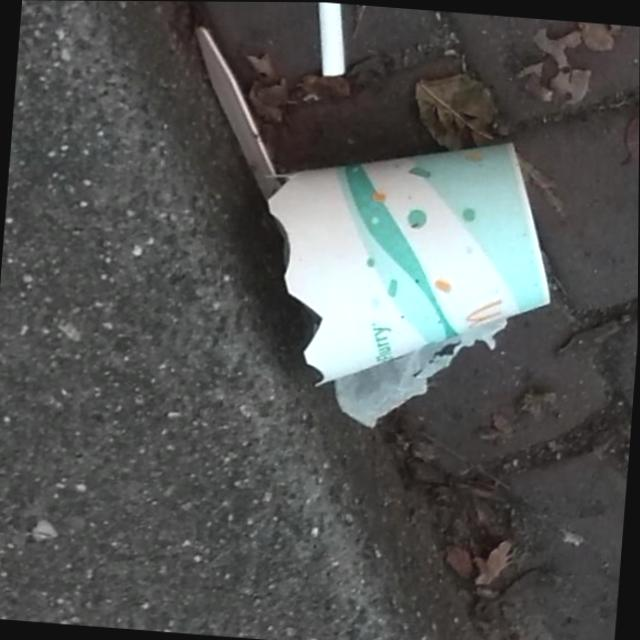Paper: (251, 120, 566, 404)
